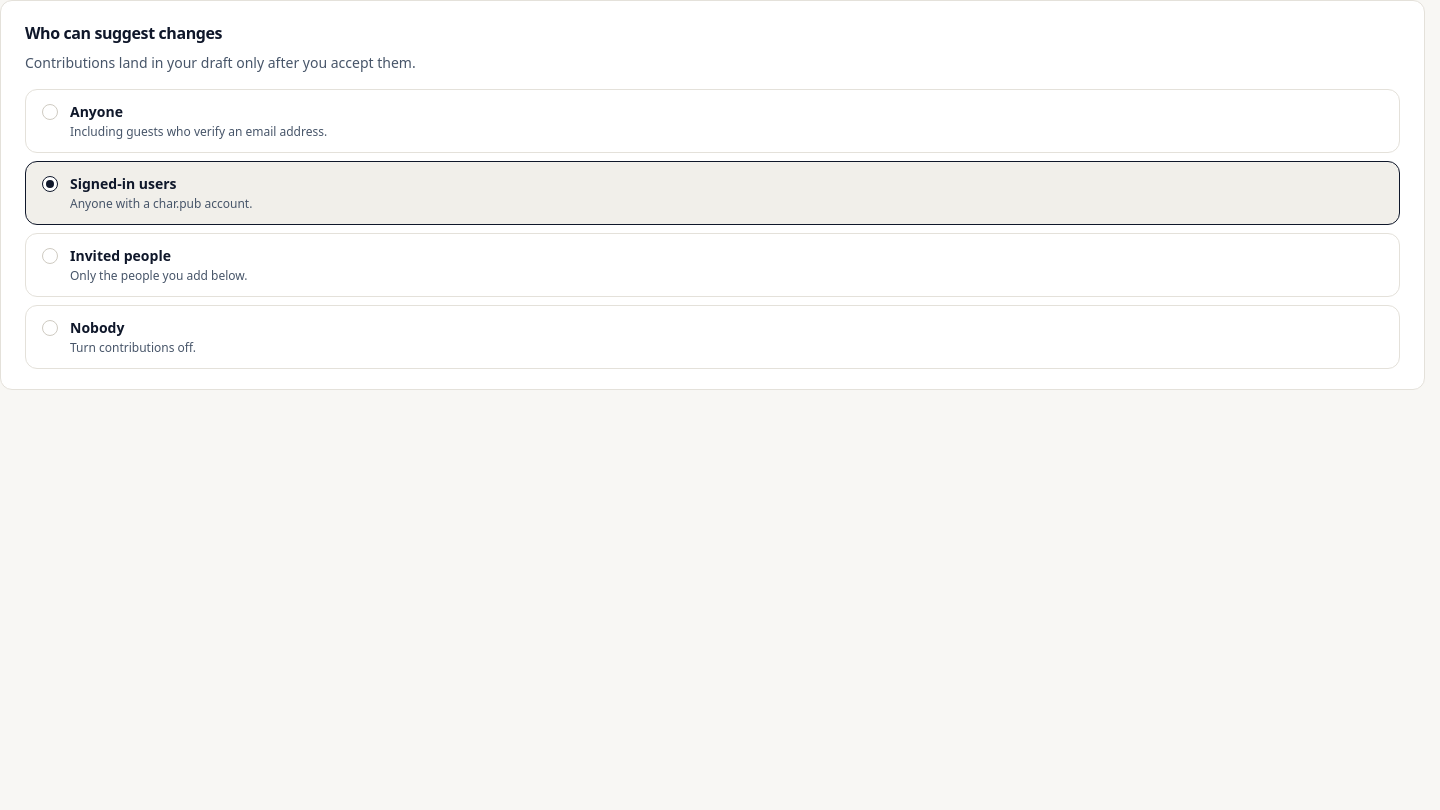
ContributionPolicySettings › saves the policy as soon as it is picked and manages invitations by @namespace
Click the radio button named "Invited people" next to "Invited people" at (50, 256), box [42, 248, 58, 264]
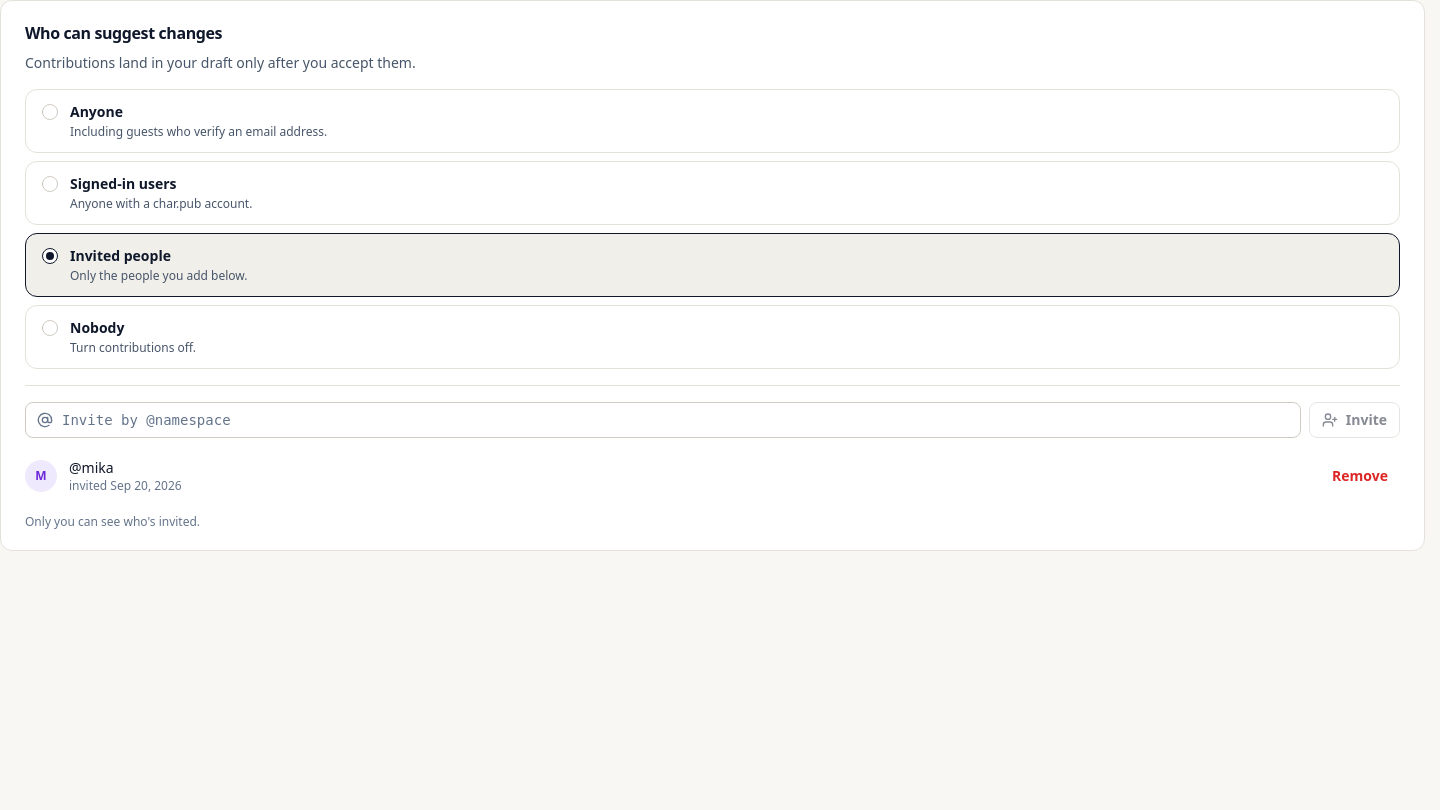
Result: the text "@mika" is shown at [69, 458, 114, 477]
Type "@vee" into the field labelled "Invite by @namespace" at (663, 420), box [25, 402, 1301, 438]
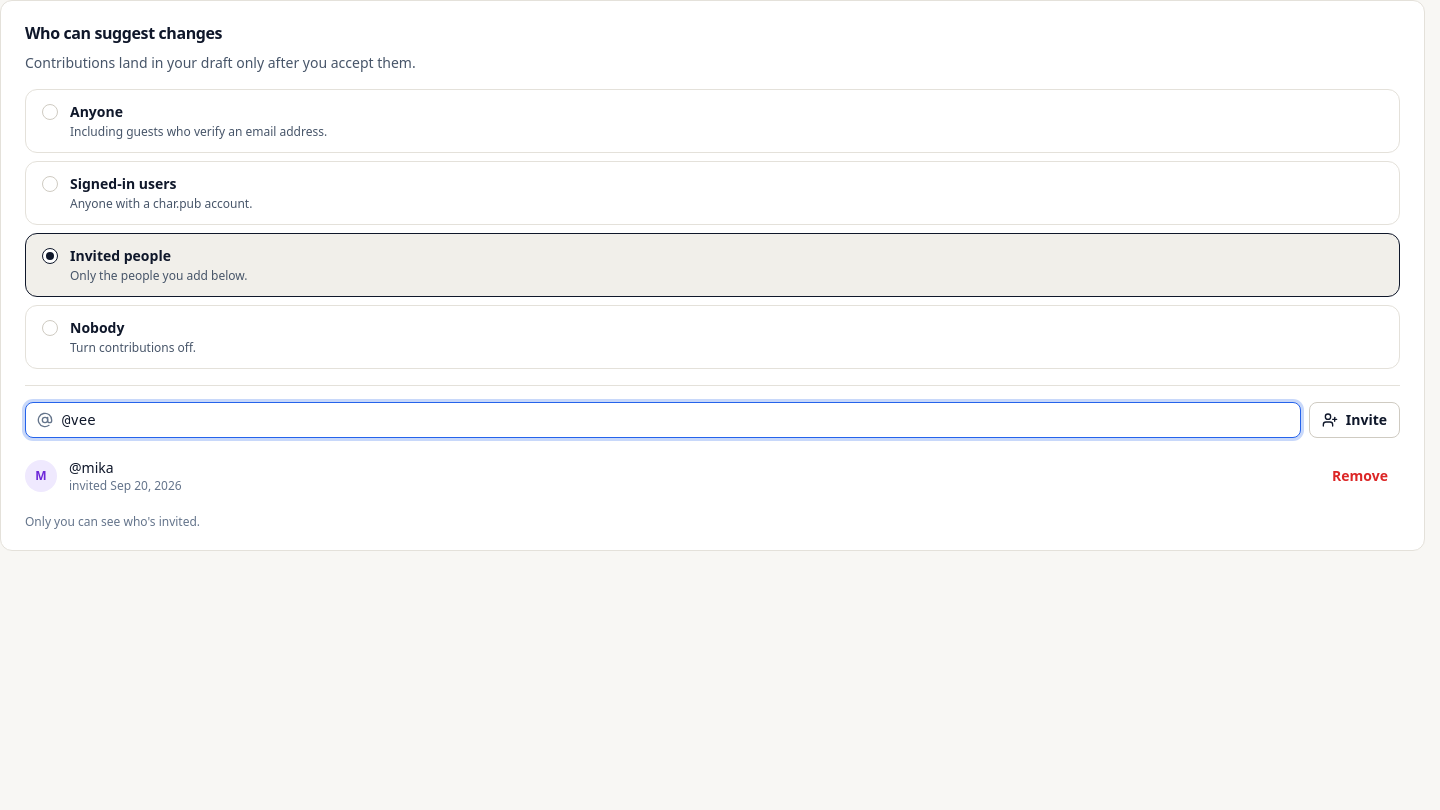
Click the button "Invite" at (1354, 420), box [1309, 402, 1400, 438]
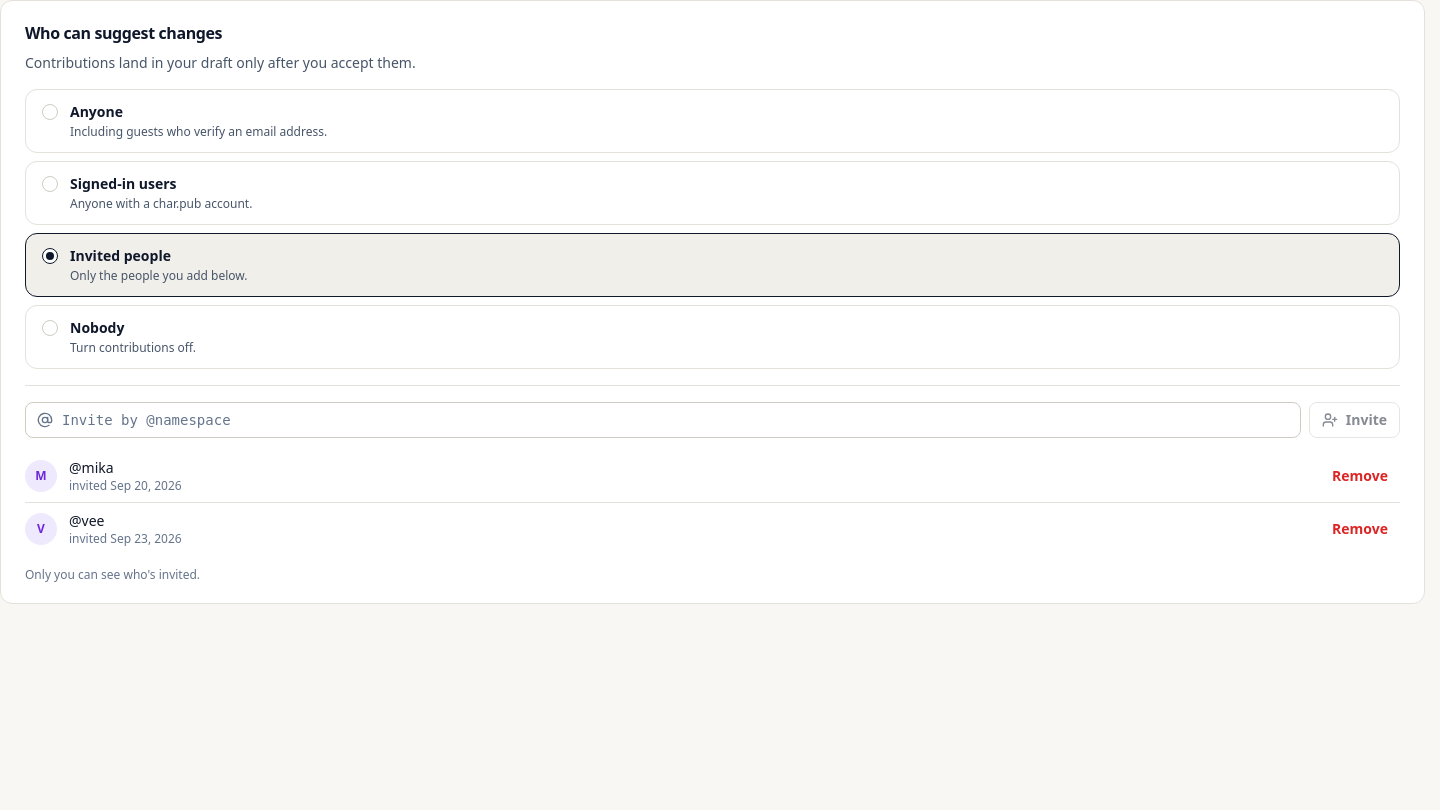
Result: the text "@vee" is shown at [69, 511, 104, 530]
Click the button with aria-label "Remove @mika" at (1360, 476), box [1320, 460, 1400, 492]
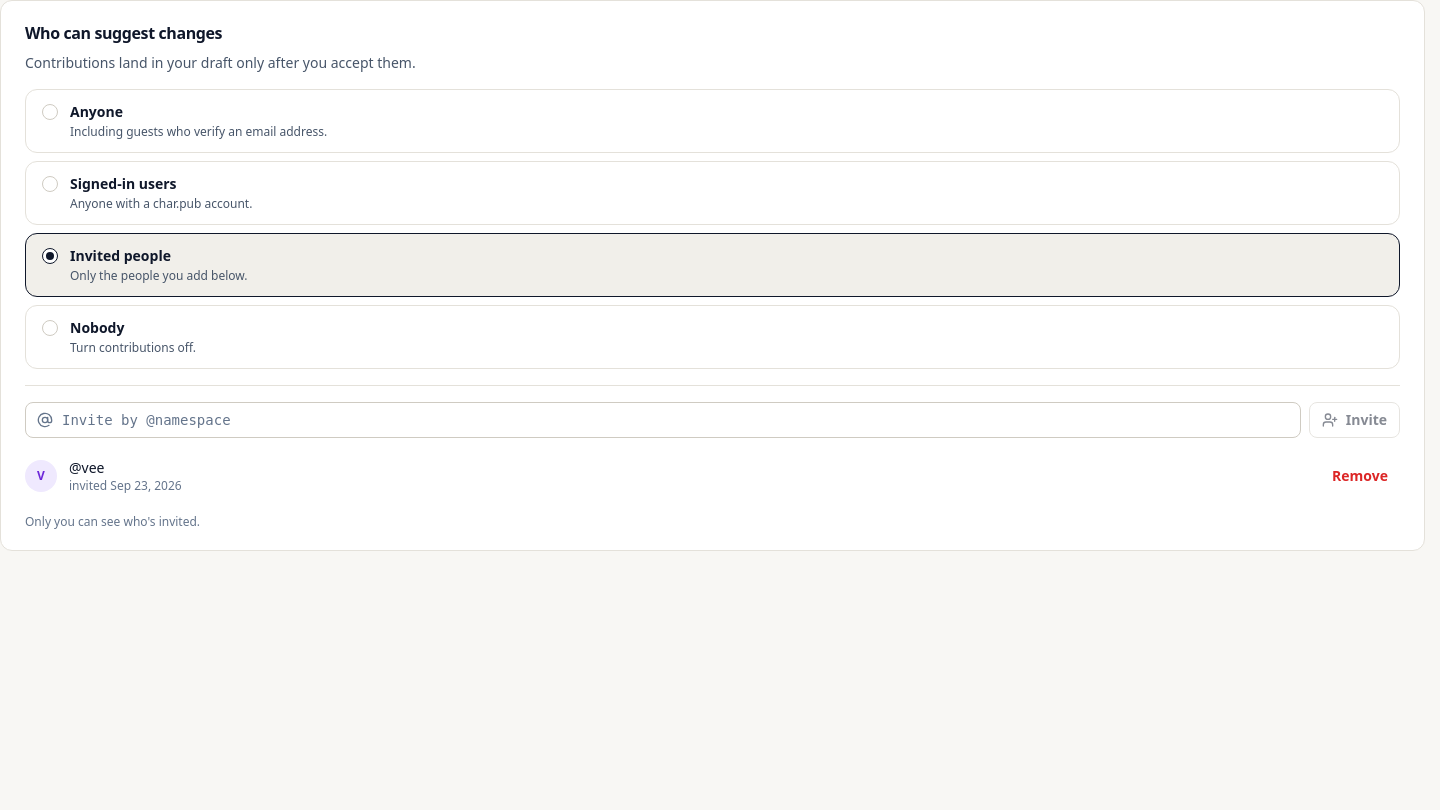
Result: the text "@mika" is gone
